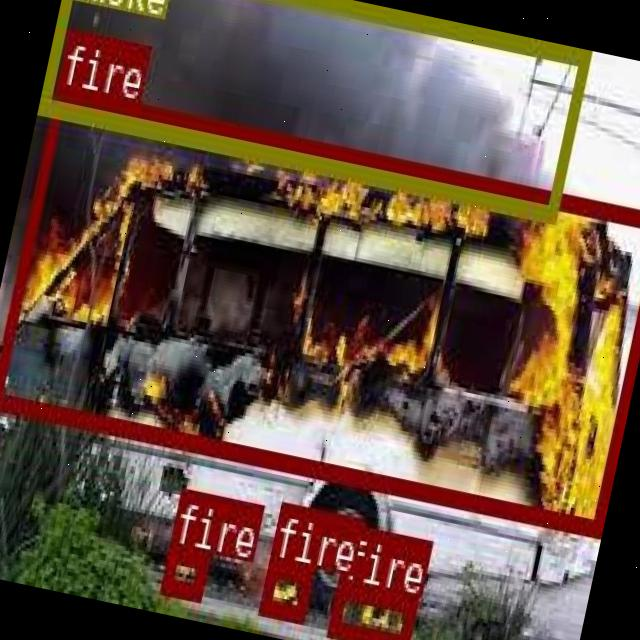fire: (0, 83, 640, 531), (326, 579, 415, 640), (256, 556, 312, 618), (158, 542, 208, 598)
smoke: (37, 0, 590, 221)
